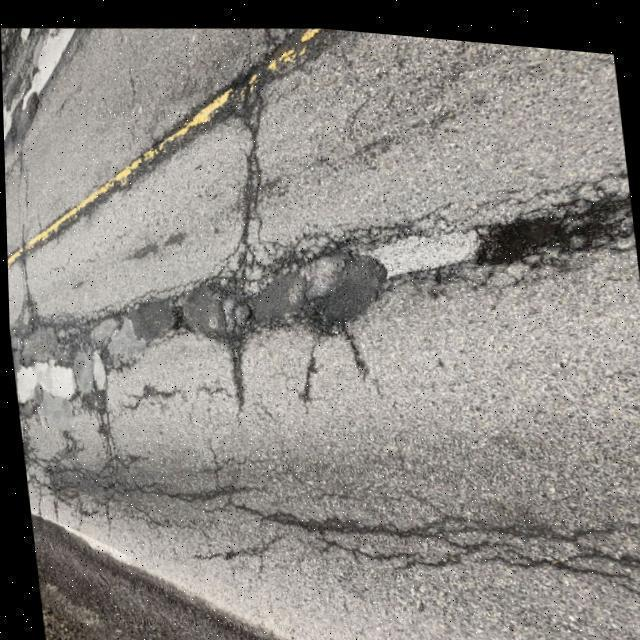Pothole: (468, 196, 622, 273)
